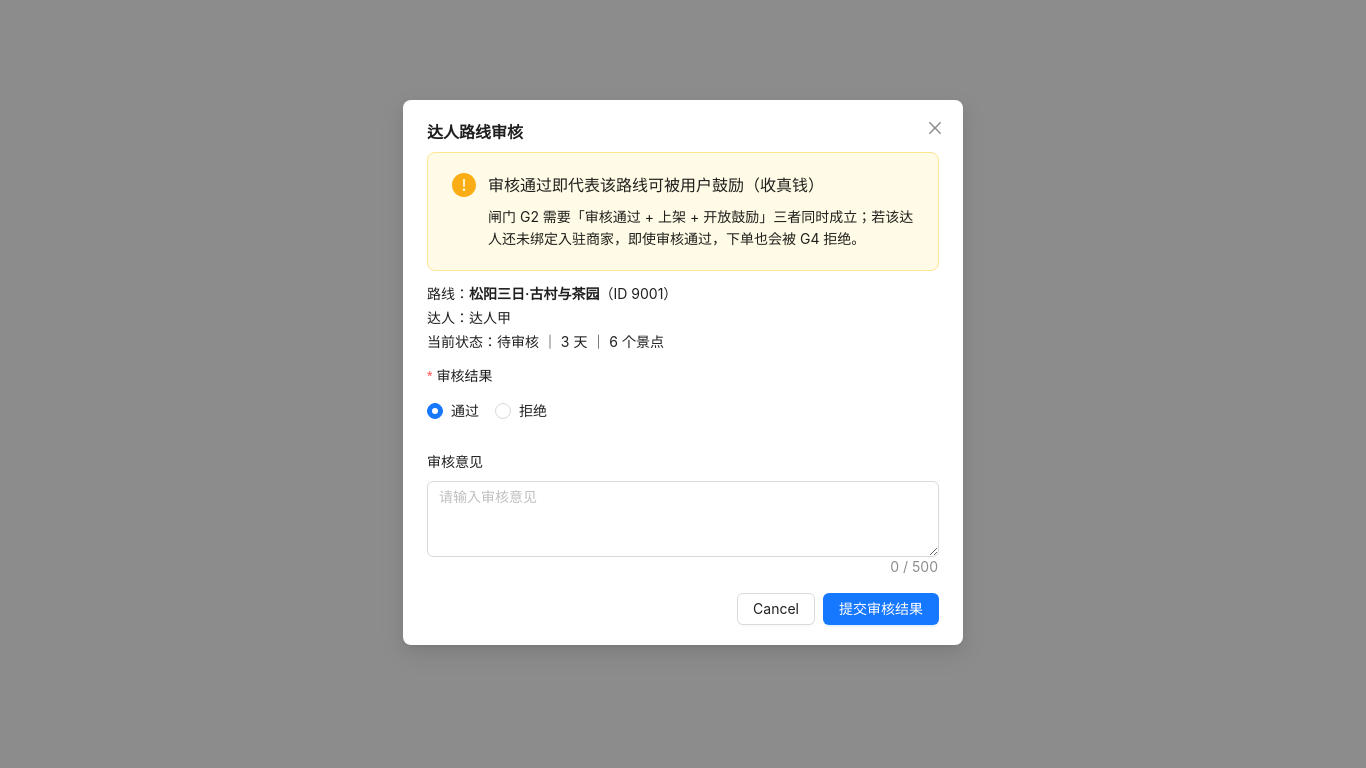
Test case: 达人路线审核弹窗 · 报错必须显示后端原文 › 🔴 4103「不能审核自己提交的路线」原样弹给运营，不再是「服务器错误，请稍后重试」
Click the button "提交审核结果" at (881, 609), box 823,593 -> 939,625
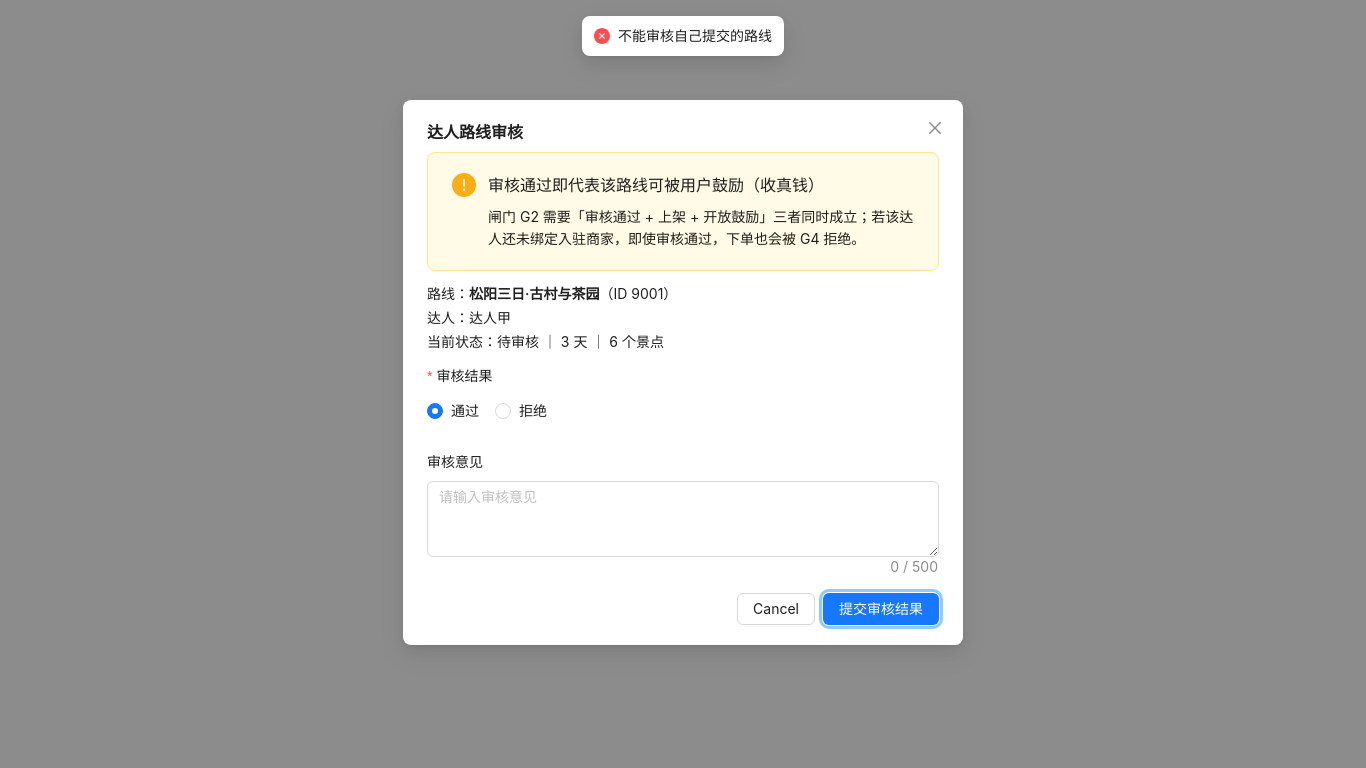
Expected: the text "不能审核自己提交的路线" is shown, 618,25 -> 772,47
